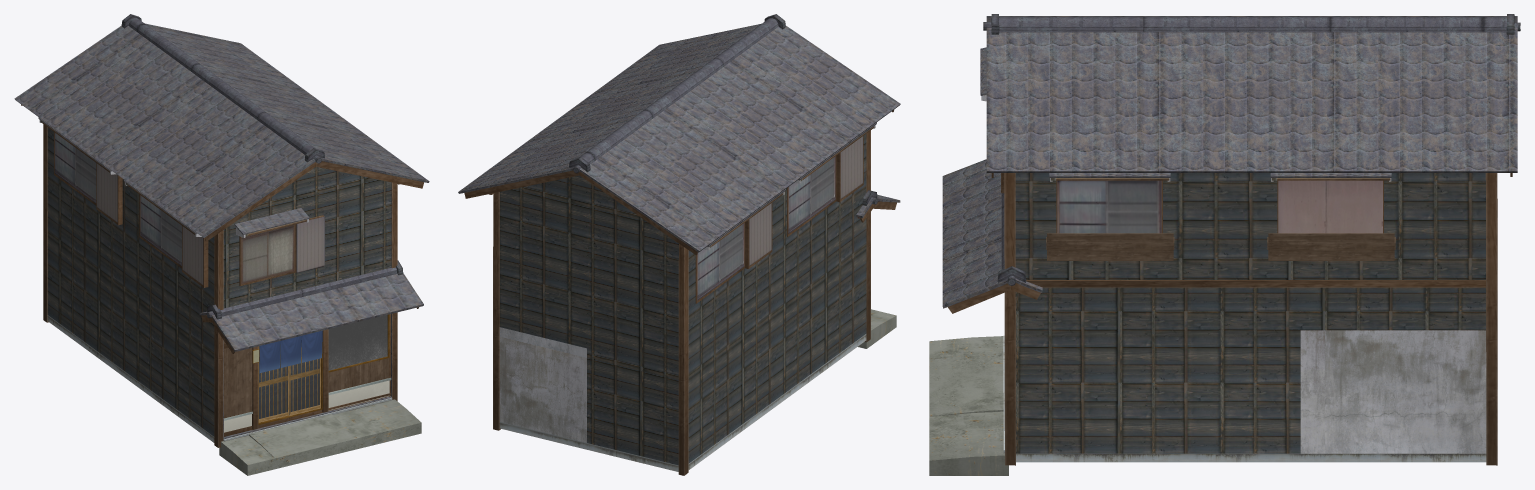
The model's file is house_shop_01_1a.fbx.
3 renders of one model, left to right at view 1: azimuth 30°, elevation 25°; view 2: azimuth 150°, elevation 25°; view 3: azimuth 270°, elevation 25°, orthographic. The views are drawn at different scales.
Parts seen in each view (by area): view 1: house_shop_01_1a; view 2: house_shop_01_1a; view 3: house_shop_01_1a.
Boxes of the visible parts, x1,y1,x2,y2 form: house_shop_01_1a: (14, 14, 429, 475); house_shop_01_1a: (458, 14, 900, 475); house_shop_01_1a: (929, 14, 1520, 475).
Size of the model in its own units: 708 by 1137 by 859.
11 materials, 11 textured.
